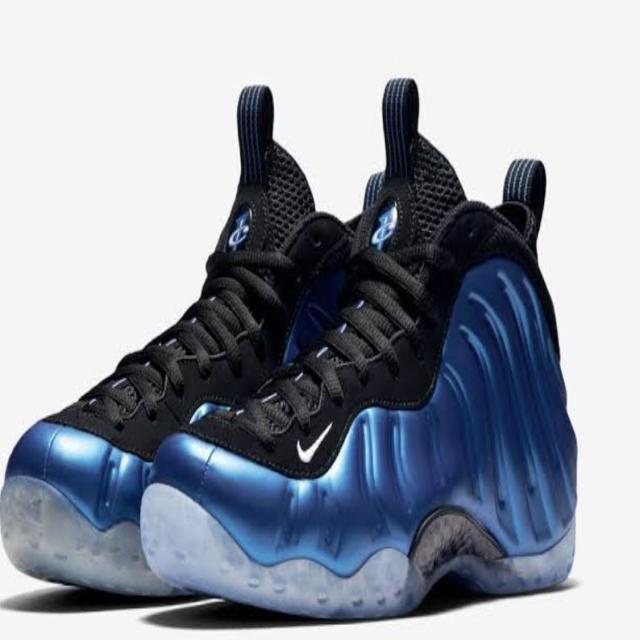shoe: (138, 57, 584, 625), (4, 82, 358, 616)
